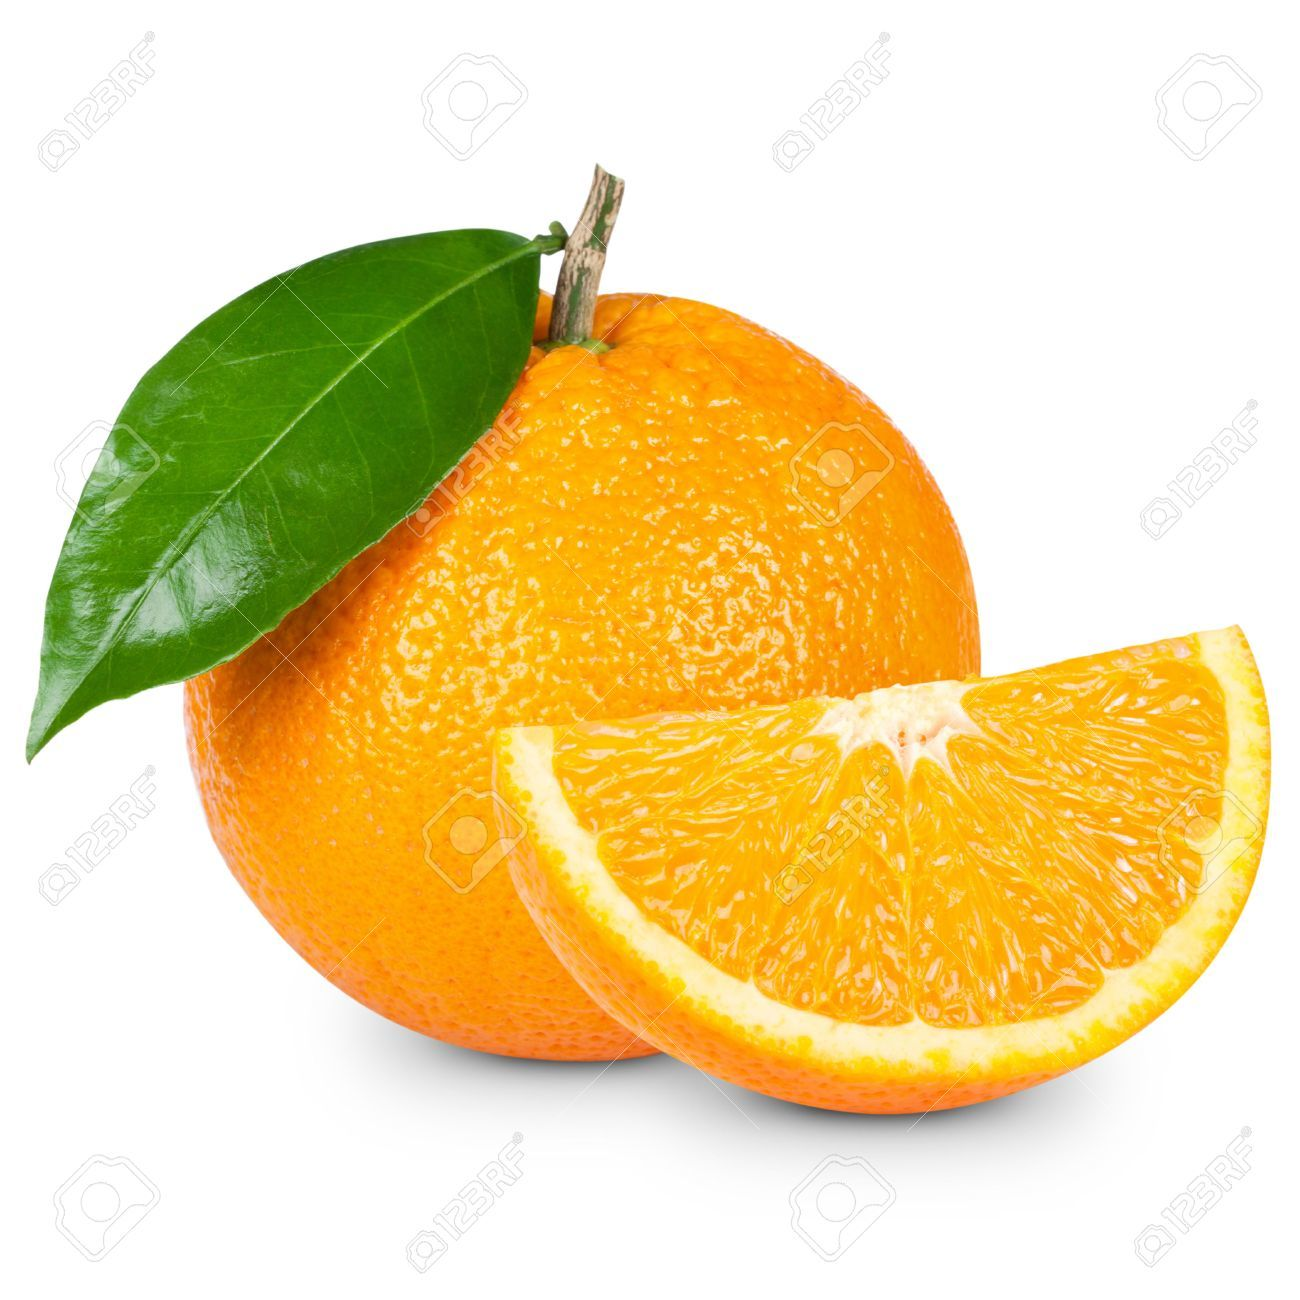orange: (163, 294, 1003, 1130)
